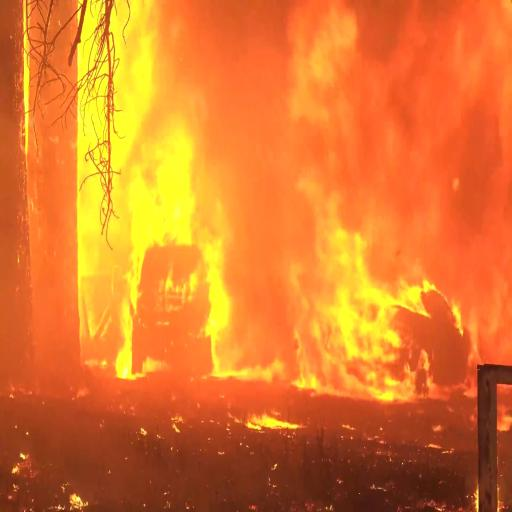fire: (126, 120, 256, 383), (292, 180, 408, 398)
